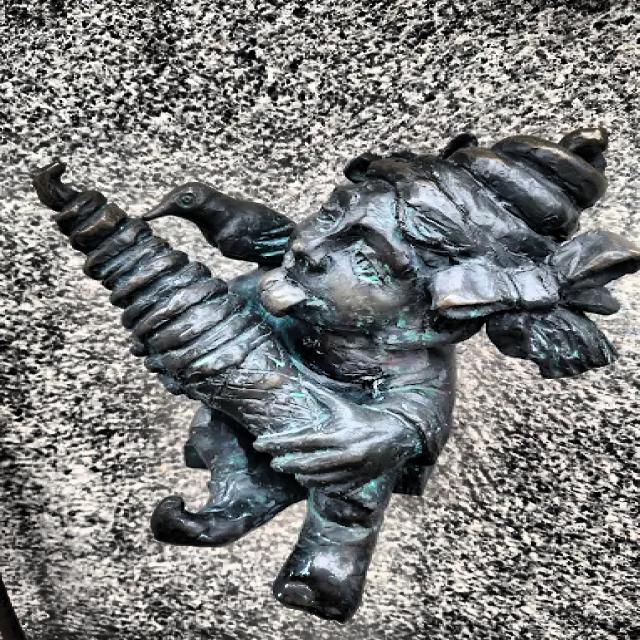Dziupelka: (39, 127, 640, 625)
